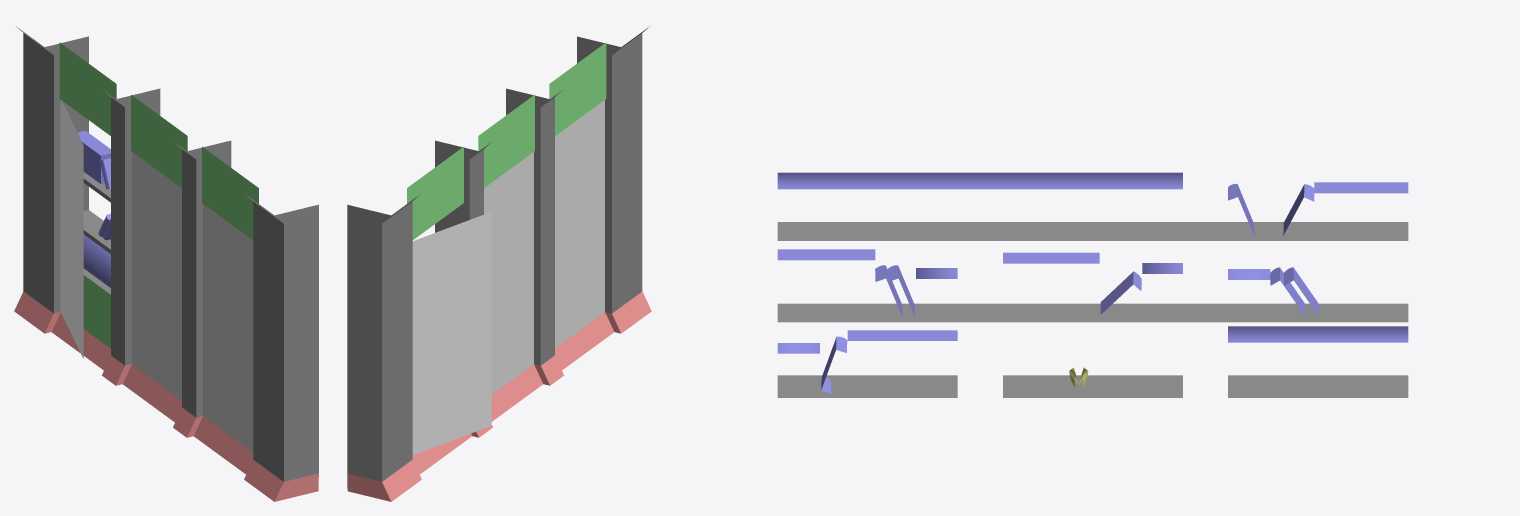
Rendered from interior_B_delf_store_22.gltf.
3 views of the same model, side by side, from view 1: azimuth 30°, elevation 25°; view 2: azimuth 150°, elevation 25°; view 3: azimuth 270°, elevation 25° (orthographic). The views are drawn at different scales.
Visible parts, largest first — view 1: interior_B_delf_store_22; view 2: interior_B_delf_store_22; view 3: interior_B_delf_store_22.
Boxes of the visible parts, left/top/right/bottom form: interior_B_delf_store_22: left=14, top=26, right=318, bottom=501; interior_B_delf_store_22: left=347, top=26, right=651, bottom=501; interior_B_delf_store_22: left=777, top=172, right=1408, bottom=397.
Bounding box in the file's own units: 0.3715 × 1.59 × 2.6.
